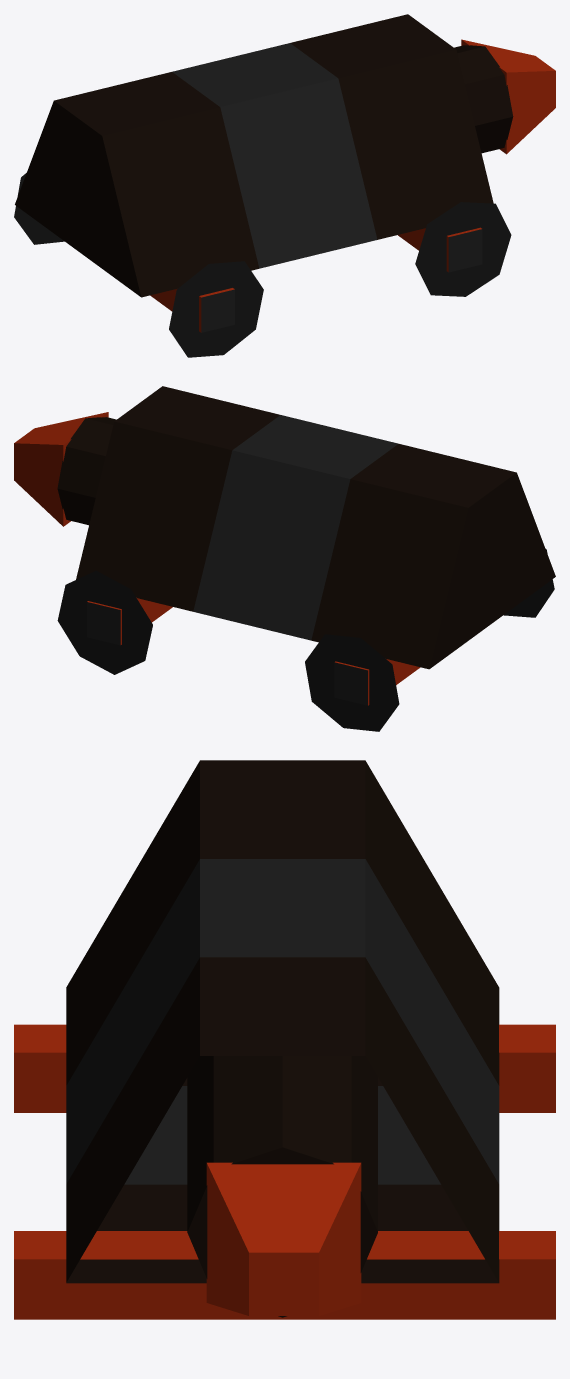
The model's file is heavybatteringram3.obj.
The picture shows the model from 3 angles, top to bottom: view 1: azimuth 30°, elevation 25°; view 2: azimuth 150°, elevation 25°; view 3: azimuth 270°, elevation 25°; orthographic projection. The views are drawn at different scales.
Parts seen in each view (by area): view 1: Cube, Plane.003, Plane.002, Cube.003, Cube.001, Cube.002, Plane.001; view 2: Cube, Plane.001, Plane, Cube.003, Cube.002, Cube.001, Plane.002; view 3: Cube, Cube.001, Cube.003, Cube.002.
Boxes of the visible parts, box(x1,y1,x2,y2) form: Cube: box(15, 14, 513, 297); Plane.003: box(415, 202, 511, 296); Plane.002: box(169, 261, 263, 357); Cube.003: box(461, 39, 555, 154); Cube.001: box(398, 227, 482, 272); Cube.002: box(150, 288, 234, 332); Plane.001: box(14, 173, 64, 244); Cube: box(57, 386, 555, 669); Plane.001: box(305, 634, 399, 731); Plane: box(57, 570, 152, 674); Cube.003: box(14, 412, 108, 526); Cube.002: box(334, 659, 420, 705); Cube.001: box(87, 597, 172, 645); Plane.002: box(504, 549, 554, 617); Cube: box(66, 760, 499, 1317); Cube.001: box(14, 1231, 555, 1319); Cube.003: box(206, 1162, 361, 1315); Cube.002: box(14, 1024, 555, 1112).
Bounding box in the file's own units: 10.17 × 4.16 × 5.96.
